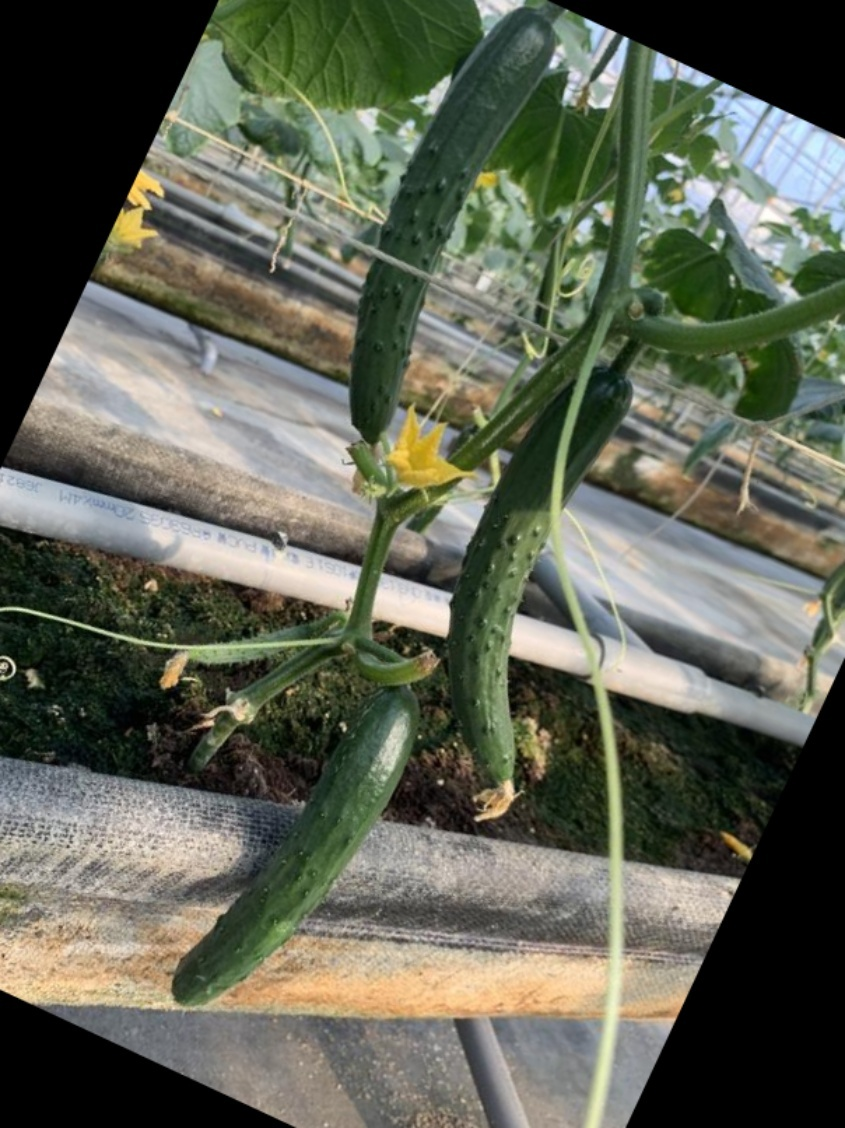mature: (335, 13, 567, 452), (432, 370, 627, 800)
